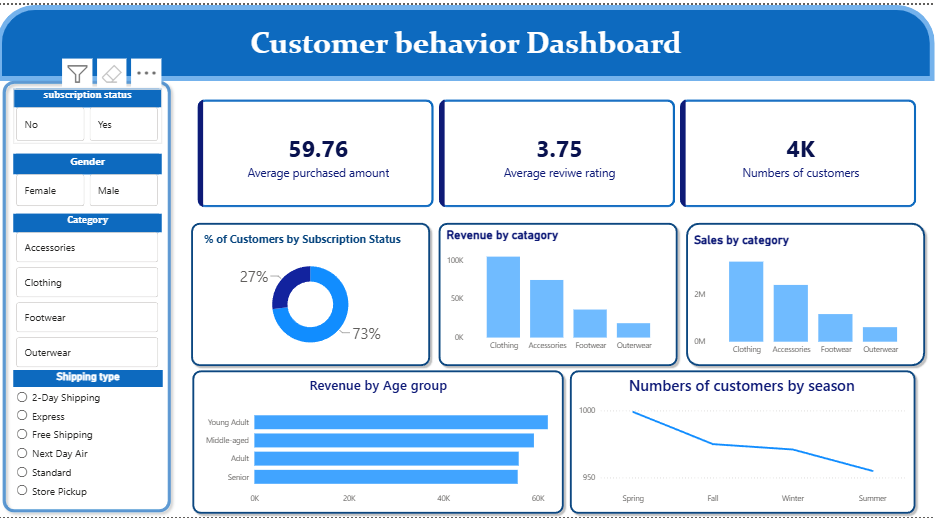

This screenshot's page, from the dashboard's own definition file:
{"tool":"powerbi","page":{"name":"Page 1","canvas":[1500,820],"ordinal":0},"visuals":[{"type":"cardVisual","fields":{"Data":["customer_behavior customers.Average purchased amount","customer_behavior customers.Average reviwe rating","customer_behavior customers.Numbers of customers"]},"box":[305,133.7,1186.6,207.5],"z":0},{"type":"shape","box":[0,0,1500.3,121.7],"z":1000},{"type":"textbox","box":[0,8.4,1500.3,106.3],"z":2000},{"type":"shape","box":[305,341.2,395.5,242.3],"z":3000},{"type":"donutChart","title":"% of Customers by Subscription Status","fields":{"Category":["customer_behavior customers.subscription_status"],"Y":["Count(customer_behavior customers.customer_id)"]},"box":[325.9,362.1,351,200.5],"z":4000},{"type":"shape","box":[1096,341.2,395.5,242.3],"z":5000},{"type":"shape","box":[700.5,341.2,395.5,242.3],"z":6000},{"type":"clusteredColumnChart","title":"Revenue by catagory","fields":{"Y":["Sum(customer_behavior customers.purchased_amount)"],"Category":["customer_behavior customers.category"]},"box":[714.4,356.5,366.3,206.1],"z":6001},{"type":"clusteredColumnChart","title":"Sales by category","fields":{"Y":["Sum(customer_behavior customers.customer_id)"],"Category":["customer_behavior customers.category"]},"box":[1110.2,363.2,366.3,204.7],"z":6002},{"type":"shape","box":[0,111,287.1,708.9],"z":6003},{"type":"advancedSlicerVisual","title":"subscription status","fields":{"Values":["customer_behavior customers.subscription_status"]},"box":[25.4,133.2,237.9,88.8],"z":6004},{"type":"advancedSlicerVisual","title":"Gender","fields":{"Values":["customer_behavior customers.gender"]},"box":[25.4,237.9,237.9,88.8],"z":6005},{"type":"advancedSlicerVisual","title":"Category","fields":{"Values":["customer_behavior customers.category"]},"box":[25.4,333.1,237.9,250.6],"z":6006},{"type":"listSlicer","title":"Shipping type","fields":{"Values":["customer_behavior customers.shipping_type"]},"box":[27,583.6,239.5,215.7],"z":6007},{"type":"shape","box":[306.1,577.3,607.4,242.7],"z":6009},{"type":"clusteredBarChart","title":"Revenue by Age group","fields":{"Category":["customer_behavior customers.age_group"],"Y":["Sum(customer_behavior customers.purchased_amount)"]},"box":[323.5,591.6,572.5,215.7],"z":6010},{"type":"shape","box":[910.3,577.3,566.2,242.7],"z":6011},{"type":"lineChart","fields":{"Category":["customer_behavior customers.season"],"Y":["customer_behavior customers.Numbers of customers"]},"box":[926.2,591.6,531.3,215.7],"z":6012}]}

Visuals, with their boxes in screenshot pixels (x1, y1, x2, y2), scaled from the page's 1500x820 canvas onto the 935x518 screenshot:
cardVisual - customer_behavior customers.Average purchased amount x customer_behavior customers.Average reviwe rating: box=[190, 84, 930, 216]
shape: box=[0, 0, 934, 77]
textbox: box=[0, 5, 934, 72]
shape: box=[190, 216, 437, 369]
"% of Customers by Subscription Status" donutChart: box=[203, 229, 422, 355]
shape: box=[683, 216, 930, 369]
shape: box=[437, 216, 683, 369]
"Revenue by catagory" clusteredColumnChart: box=[445, 225, 674, 355]
"Sales by category" clusteredColumnChart: box=[692, 229, 920, 359]
shape: box=[0, 70, 179, 517]
"subscription status" advancedSlicerVisual: box=[16, 84, 164, 140]
"Gender" advancedSlicerVisual: box=[16, 150, 164, 206]
"Category" advancedSlicerVisual: box=[16, 210, 164, 369]
"Shipping type" listSlicer: box=[17, 369, 166, 505]
shape: box=[191, 365, 569, 517]
"Revenue by Age group" clusteredBarChart: box=[202, 374, 559, 510]
shape: box=[567, 365, 920, 517]
lineChart - customer_behavior customers.season x customer_behavior customers.Numbers of customers: box=[577, 374, 909, 510]
